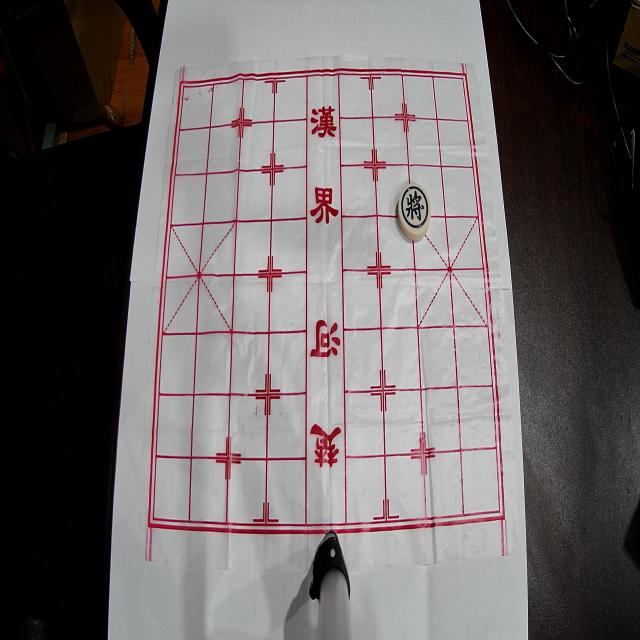black-general: (398, 183, 431, 241)
